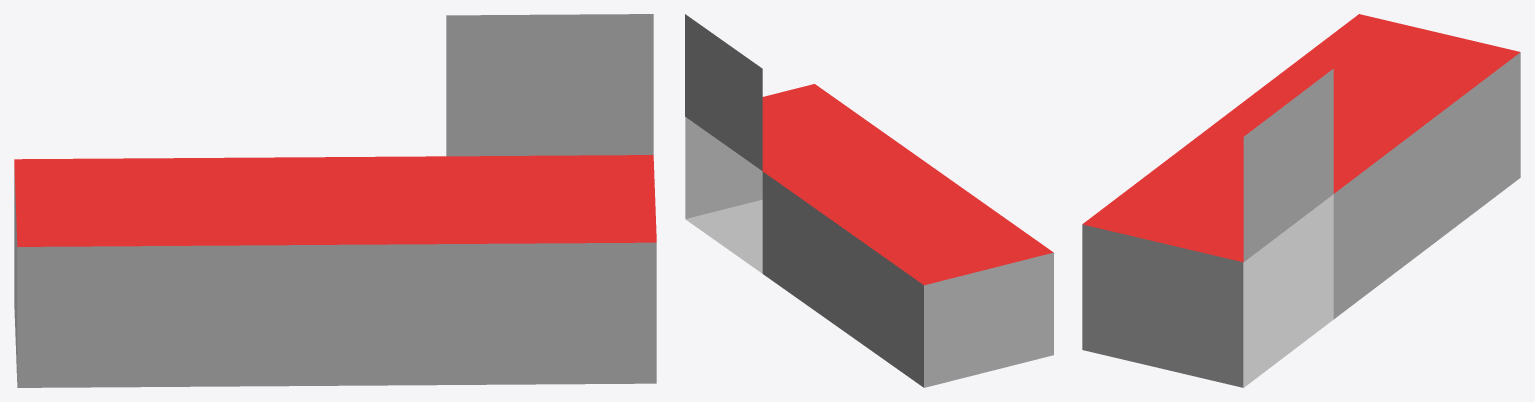
Rendered from pb-9635e7f8-7f36-11f0-b267-9c7bef4dcf4c.dae.
3 renders of one model, left to right at view 1: azimuth 30°, elevation 25°; view 2: azimuth 150°, elevation 25°; view 3: azimuth 270°, elevation 25°, orthographic. The views are drawn at different scales.
Size of the model in its own units: 38.17 by 28.48 by 18.
